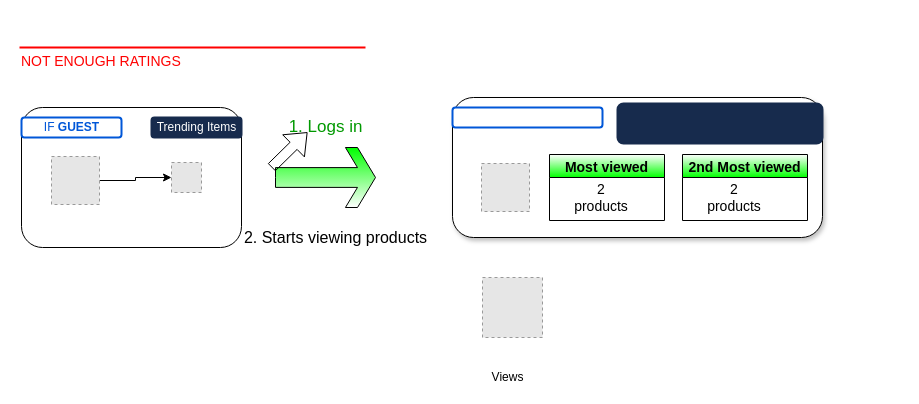
The diagram is 919 pixels wide and 404 high, and some of its shapes have lost their labels. Grey dashed boxes stand in for pictures. The centre of each missing label's shape, as x and y in pixels:
"2 each from most and secondmost viewed subcats" goes at (x=719, y=123).
"VIEWS IN >2 SUBCATS" goes at (x=527, y=117).
